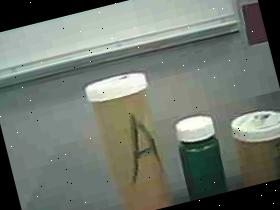Bottle A: (80, 65, 181, 210)
Bottle B: (223, 101, 280, 188)
Bottle C: (169, 106, 234, 201)
